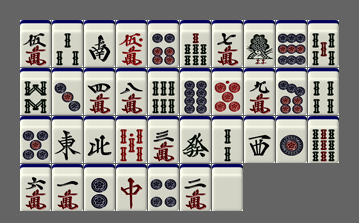0m: (116, 20, 147, 67)
0p: (212, 68, 243, 115)
0s: (116, 116, 147, 163)
1m: (52, 164, 83, 211)
1p: (276, 116, 307, 163)
1s: (244, 20, 275, 67)
1z: (52, 116, 83, 163)
2m: (180, 164, 211, 211)
2p: (84, 164, 115, 211)
2s: (212, 116, 243, 163)
2z: (84, 20, 115, 67)
3m: (148, 116, 179, 163)
3p: (52, 68, 83, 115)
3s: (52, 20, 83, 67)
3z: (244, 116, 275, 163)
4m: (84, 68, 115, 115)
4p: (148, 164, 179, 211)
4s: (308, 68, 339, 115)
4z: (84, 116, 115, 163)
5m: (20, 20, 51, 67)
5p: (20, 116, 51, 163)
5s: (308, 20, 339, 67)
5z: (212, 164, 243, 211)
6m: (20, 164, 51, 211)
6p: (148, 20, 179, 67)
6s: (148, 68, 179, 115)
6z: (180, 116, 211, 163)
7m: (212, 20, 243, 67)
7p: (276, 68, 307, 115)
7s: (180, 20, 211, 67)
7z: (116, 164, 147, 211)
8m: (116, 68, 147, 115)
8p: (180, 68, 211, 115)
8s: (20, 68, 51, 115)
9m: (244, 68, 275, 115)
9p: (276, 20, 307, 67)
9s: (308, 116, 339, 163)
